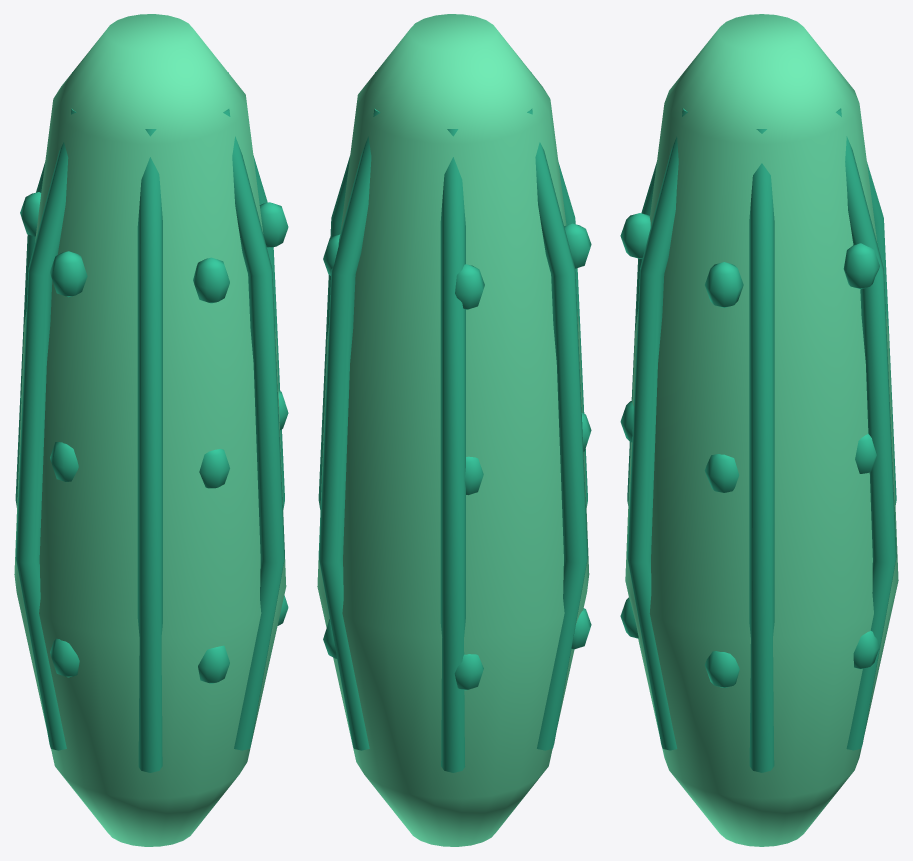
The model's file is cucumber.fbx.
3 renders of one model, left to right at view 1: azimuth 30°, elevation 25°; view 2: azimuth 150°, elevation 25°; view 3: azimuth 270°, elevation 25°, orthographic.
Visible parts, largest first — view 1: cucumber; view 2: cucumber; view 3: cucumber.
Boxes of the visible parts, box(x1,y1,x2,y2) form: cucumber: box(14, 14, 288, 846); cucumber: box(317, 14, 591, 846); cucumber: box(620, 14, 898, 846).
Size of the model in its own units: 35.1 by 100 by 31.67.
Materials: 1 (1 with a texture image).
